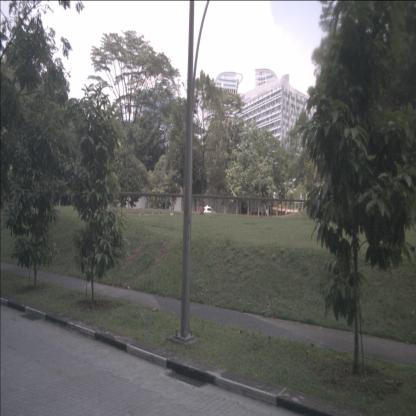vehicle-car: (200, 207, 216, 218)
